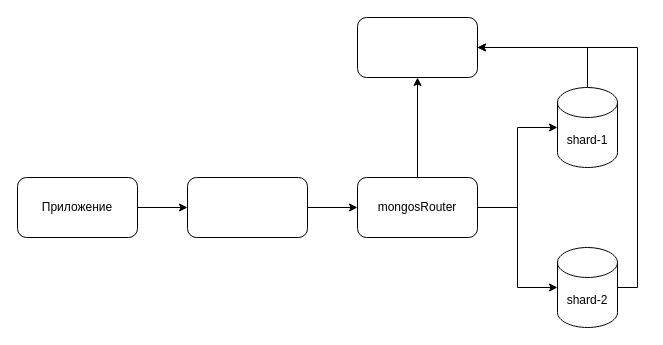
Image size: 663x345. Some labels were removed from this diagram. Here are the shapes that lost their labels. From the top down, the centre of each, then its label:
At point 417,47: "mongosCfg".
At point 247,207: "pymongo-api".
